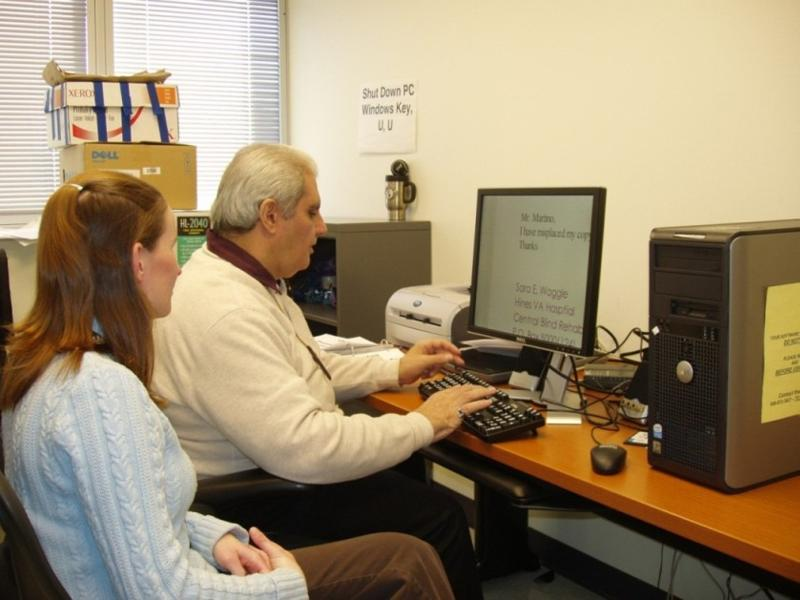person: (158, 143, 495, 598)
